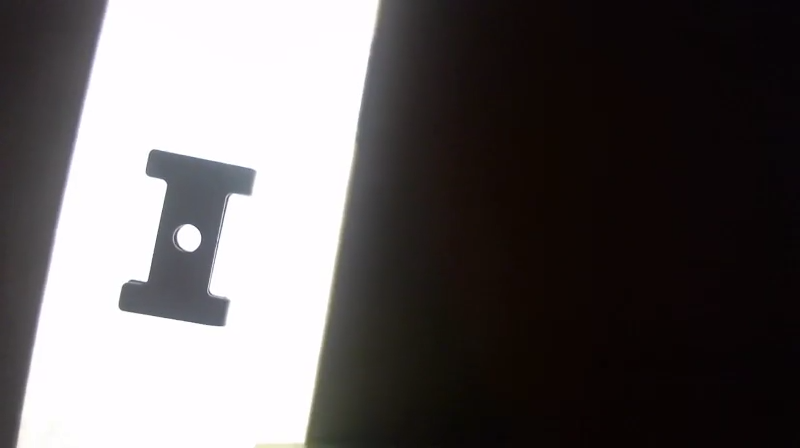O002: (113, 145, 256, 330)
